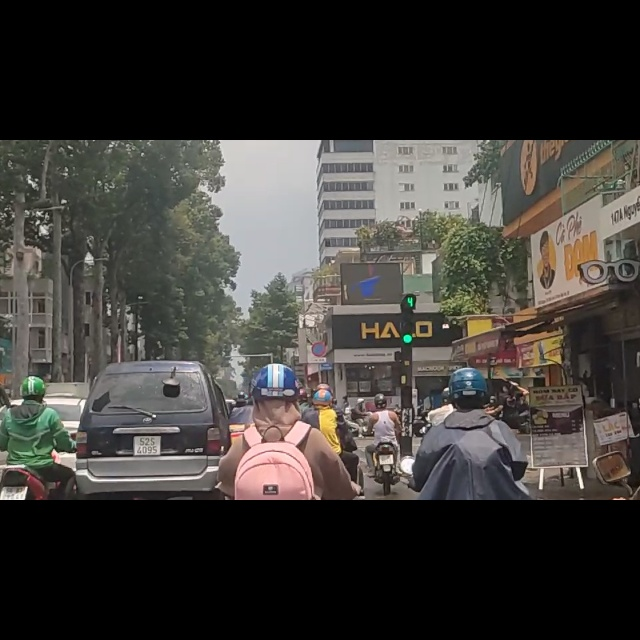bien_cam: (311, 358, 329, 389)
